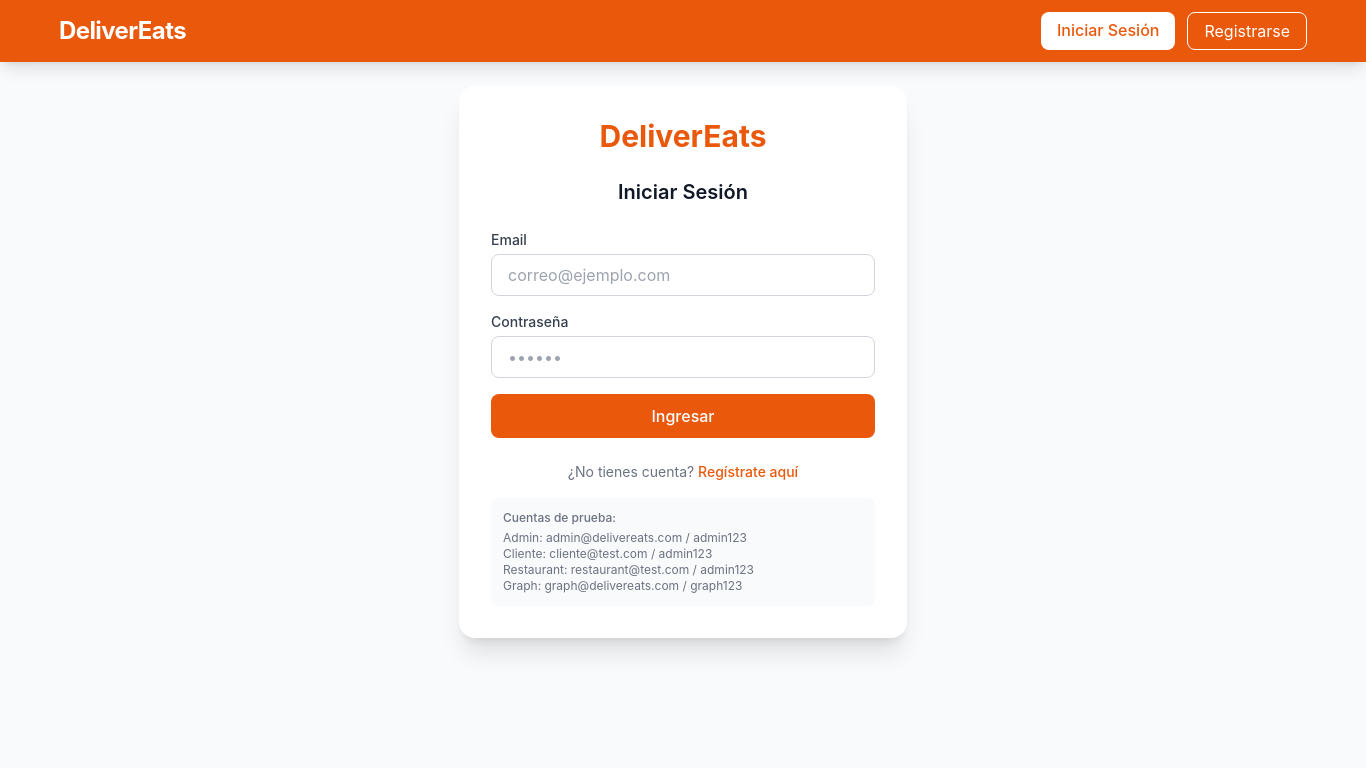
Test: Frontend Evidence - DeliverEats › captures register page baseline
Step 1. Click the link to "/register" → [1247, 31], box [1187,12,1307,50]
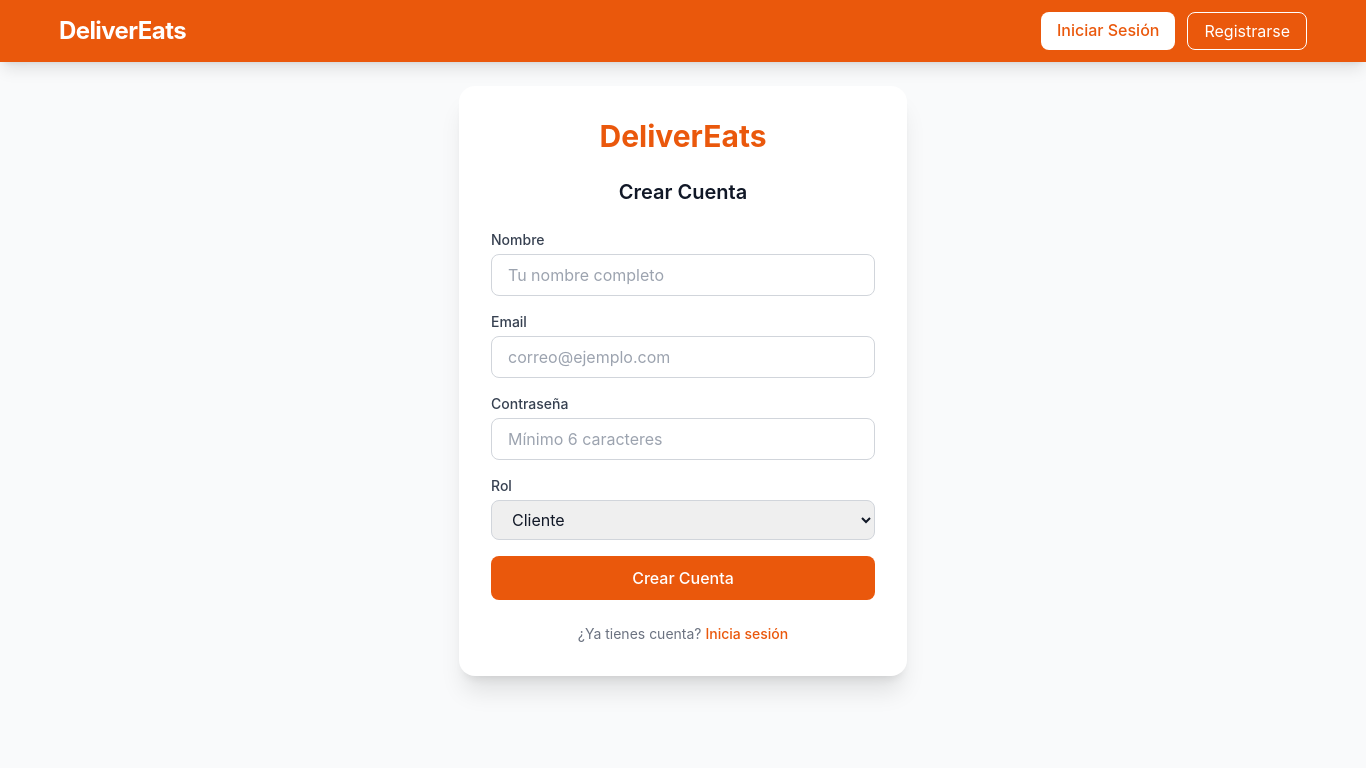
Expected: the text "Contraseña" is shown, [491,395,568,412]
Expected: the text "Nombre" is shown, [491,231,544,248]
